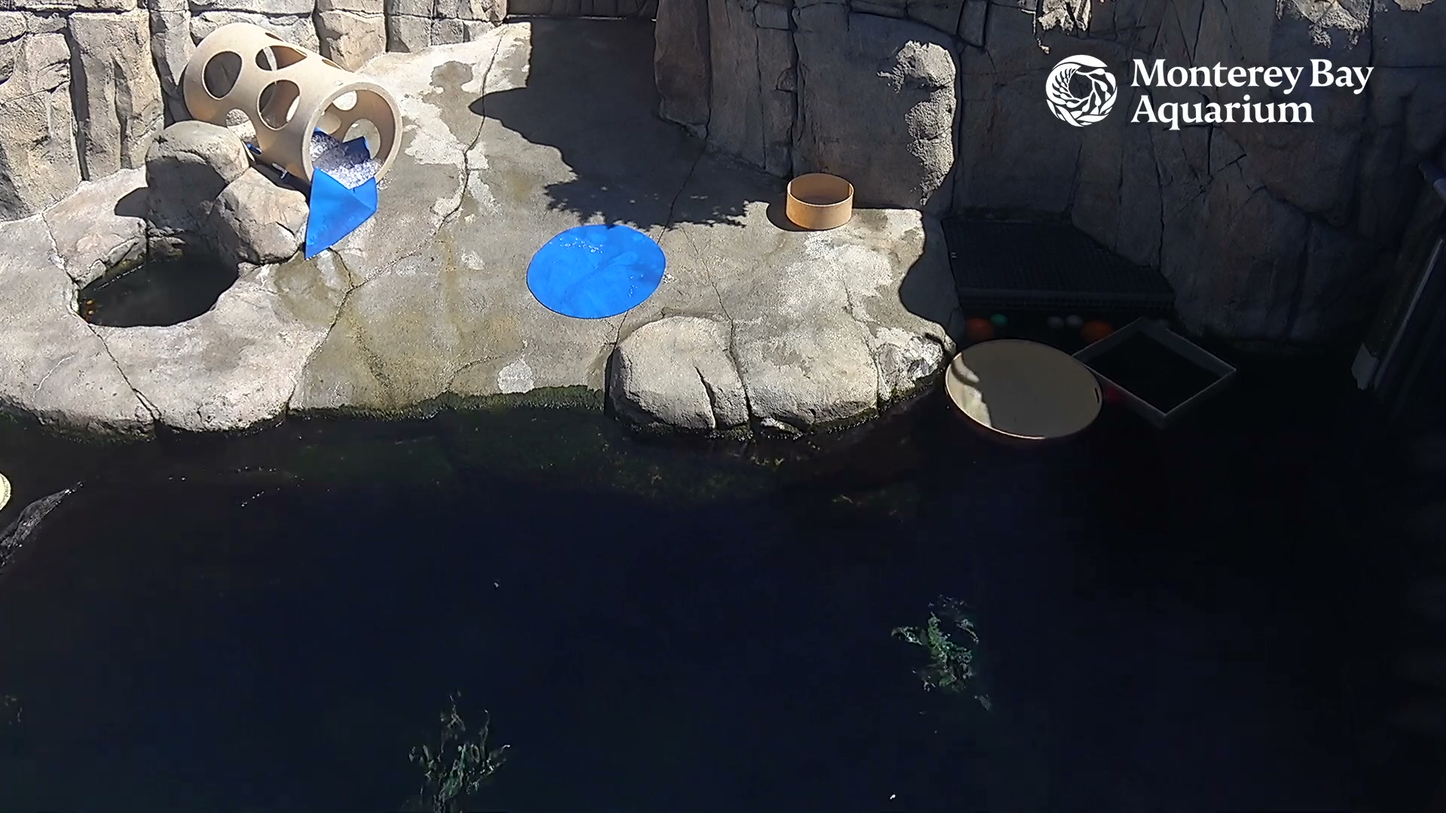Southern Sea Otter: (0, 430, 124, 614)
